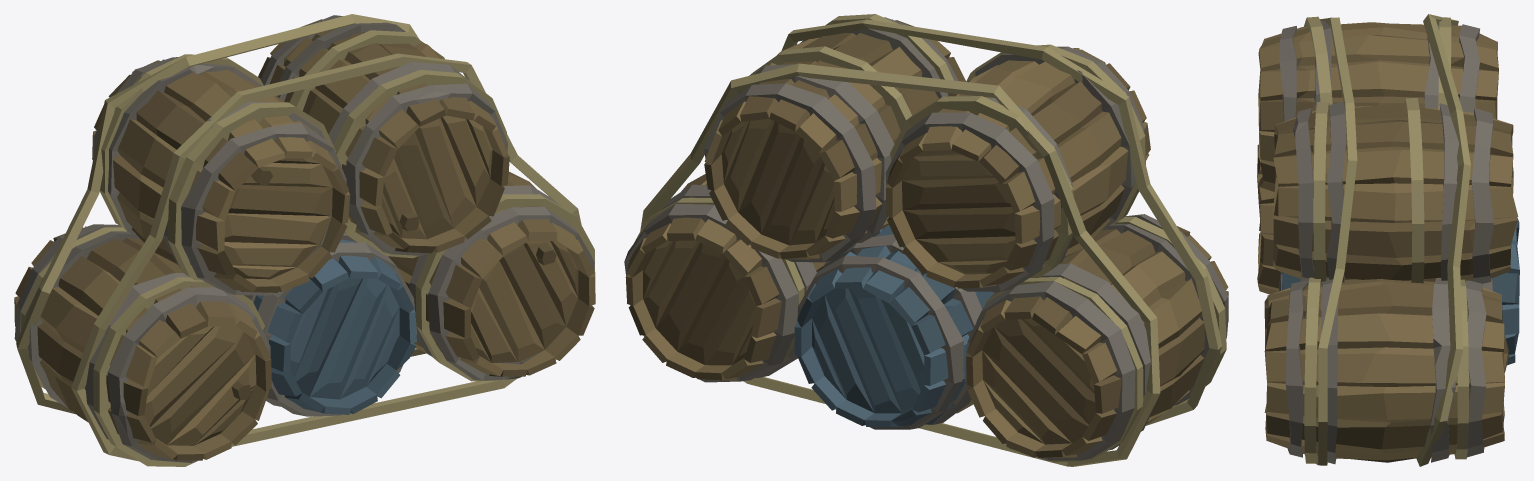
The model's file is Stack_10.fbx.
3 renders of one model, left to right at view 1: azimuth 30°, elevation 25°; view 2: azimuth 150°, elevation 25°; view 3: azimuth 270°, elevation 25°, orthographic. The views are drawn at different scales.
Visible parts, largest first — view 1: Stack_10; view 2: Stack_10; view 3: Stack_10.
Part boxes in pixels (<box>): Stack_10: <box>14,14,595,466</box>; Stack_10: <box>624,14,1228,466</box>; Stack_10: <box>1257,14,1519,466</box>.
Size of the model in its own units: 216 by 142 by 101.
